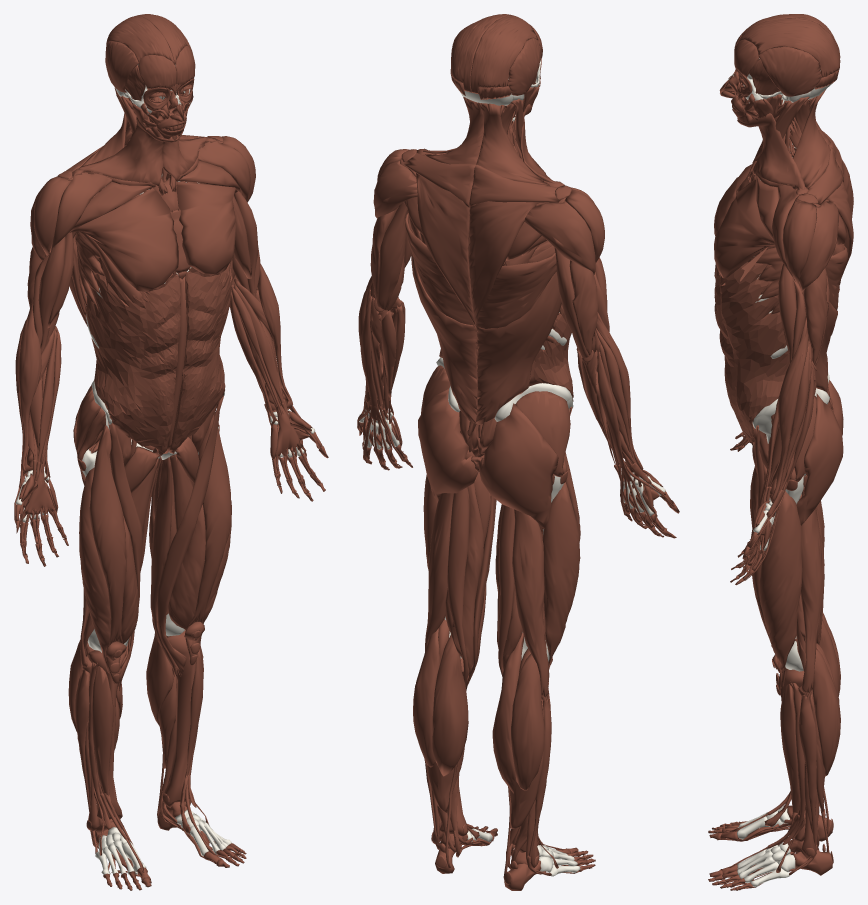
File: body.glb
3 views of the same model, side by side, from view 1: azimuth 30°, elevation 25°; view 2: azimuth 150°, elevation 25°; view 3: azimuth 270°, elevation 25° (orthographic). The views are drawn at different scales.
Parts seen in each view (by area): view 1: External abdominal oblique muscle.012, External abdominal oblique muscle, Sternocostal head of pectoralis major muscle.007, Rectus femoris muscle.001, Sternocostal head of pectoralis major muscle.006, Rectus femoris muscle, Sartorius muscle, Vastus lateralis muscle.003, Platysma.001, Tibia.002, Vastus medialis muscle, Gracilis muscle.002 (+45 smaller); view 2: Latissimus dorsi muscle.005, Gluteus maximus muscle.005, Latissimus dorsi muscle.002, Descending part of trapezius muscle, Vastus lateralis muscle.003, Long head of biceps femoris.003, Descending part of trapezius muscle.003, Gluteus maximus muscle.002, Medial head of gastrocnemius, Lateral head of gastrocnemius.003, Epicranial aponeurosis.001, Scapular spinal part of deltoid muscle.003 (+34 smaller); view 3: External abdominal oblique muscle, Vastus lateralis muscle, Sternocostal head of pectoralis major muscle.006, Gluteus maximus muscle.002, Long head of biceps femoris, Epicranial aponeurosis, Temporoparietalis muscle, Lateral head of gastrocnemius, Platysma, Brachioradialis muscle.002, Acromial part of deltoid muscle, Scapular spinal part of deltoid muscle (+36 smaller).
Boxes of the visible parts, x1,y1,x2,y2 form: External abdominal oblique muscle.012: (86, 258, 180, 446); External abdominal oblique muscle: (174, 258, 232, 444); Sternocostal head of pectoralis major muscle.007: (69, 188, 178, 291); Rectus femoris muscle.001: (89, 425, 126, 683); Sternocostal head of pectoralis major muscle.006: (177, 182, 237, 274); Rectus femoris muscle: (185, 414, 231, 659); Sartorius muscle: (156, 395, 223, 676); Vastus lateralis muscle.003: (79, 468, 110, 673); Platysma.001: (78, 117, 174, 185); Tibia.002: (163, 630, 196, 807); Vastus medialis muscle: (168, 505, 205, 651); Gracilis muscle.002: (150, 457, 177, 677); Latissimus dorsi muscle.005: (475, 252, 561, 424); Gluteus maximus muscle.005: (479, 403, 558, 528); Latissimus dorsi muscle.002: (405, 213, 477, 423); Descending part of trapezius muscle: (415, 173, 476, 326); Vastus lateralis muscle.003: (542, 482, 580, 665); Long head of biceps femoris.003: (512, 509, 549, 697); Descending part of trapezius muscle.003: (469, 201, 539, 327); Gluteus maximus muscle.002: (418, 389, 478, 501); Medial head of gastrocnemius: (432, 635, 468, 776); Lateral head of gastrocnemius.003: (511, 654, 544, 790); Epicranial aponeurosis.001: (470, 15, 538, 94); Scapular spinal part of deltoid muscle.003: (524, 201, 595, 274); External abdominal oblique muscle: (714, 262, 789, 442); Vastus lateralis muscle: (759, 491, 802, 688); Sternocostal head of pectoralis major muscle.006: (714, 179, 775, 278); Gluteus maximus muscle.002: (796, 393, 843, 525); Long head of biceps femoris: (800, 508, 824, 694); Epicranial aponeurosis: (738, 18, 840, 77); Temporoparietalis muscle: (758, 46, 820, 96); Lateral head of gastrocnemius: (812, 648, 840, 776); Platysma: (737, 113, 804, 189); Brachioradialis muscle.002: (771, 316, 808, 501); Acromial part of deltoid muscle: (782, 201, 816, 283); Scapular spinal part of deltoid muscle: (799, 201, 838, 291).
Bounding box in the file's own units: 0.6687 × 1.7 × 0.267.
